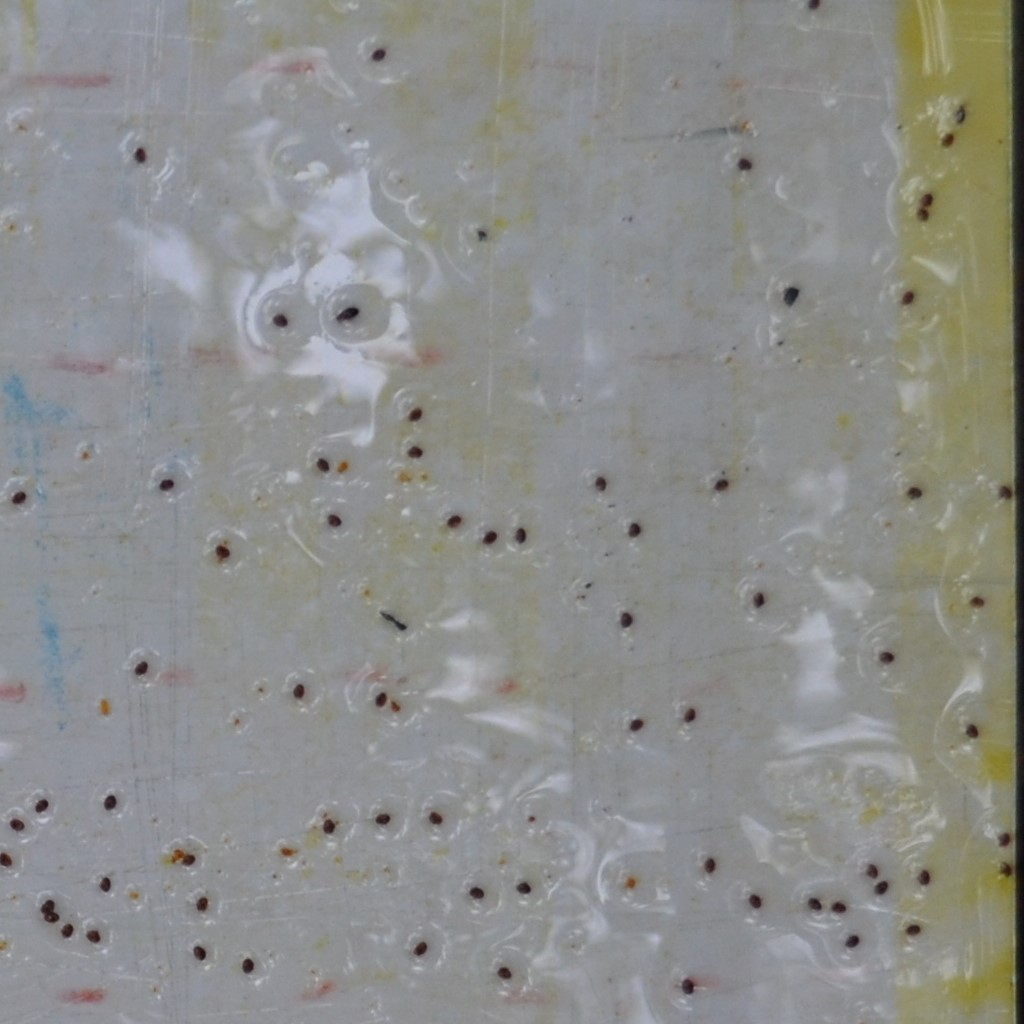varroa: (479, 523, 501, 554), (780, 284, 803, 310), (334, 303, 361, 325), (129, 655, 151, 680), (734, 153, 756, 177), (443, 509, 463, 535), (212, 539, 233, 563), (700, 854, 721, 878), (512, 521, 529, 550), (130, 143, 148, 170), (155, 474, 177, 496), (239, 952, 256, 980), (995, 826, 1012, 854), (101, 787, 120, 812), (950, 100, 968, 126), (938, 128, 956, 154), (372, 685, 390, 711), (9, 486, 28, 510), (965, 590, 986, 611), (875, 646, 897, 666), (746, 888, 763, 913), (898, 287, 918, 308), (81, 926, 102, 946), (425, 806, 445, 827), (368, 44, 387, 66), (411, 938, 430, 960), (374, 808, 393, 830), (313, 454, 331, 477), (325, 508, 343, 531), (407, 401, 424, 425), (905, 484, 925, 504), (271, 308, 290, 329), (404, 442, 425, 461), (842, 929, 861, 950), (468, 882, 487, 903), (679, 975, 697, 997), (960, 721, 980, 740), (711, 475, 730, 495), (627, 715, 646, 735), (618, 609, 636, 630), (915, 866, 932, 888), (626, 518, 643, 540), (996, 483, 1015, 502), (289, 681, 308, 700), (514, 878, 533, 897), (916, 189, 936, 207), (59, 920, 76, 941), (193, 891, 209, 913), (33, 796, 50, 816), (494, 964, 514, 981), (9, 814, 25, 835), (998, 859, 1014, 880), (863, 860, 879, 881), (872, 879, 890, 897), (806, 895, 824, 913), (97, 874, 111, 897), (681, 706, 697, 726), (192, 942, 207, 963), (322, 816, 337, 837), (0, 847, 14, 869), (914, 206, 931, 224), (38, 897, 55, 915), (830, 898, 847, 916), (903, 922, 922, 938), (751, 589, 766, 609), (593, 473, 607, 493), (43, 909, 60, 925), (180, 852, 197, 868), (804, 1, 825, 13)
